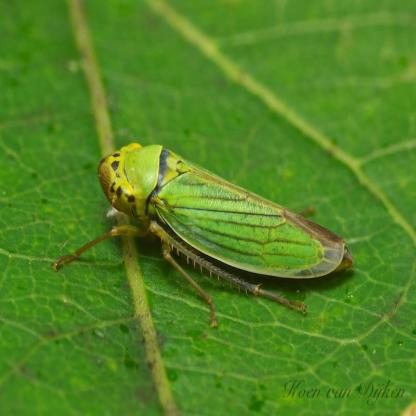Green-Leafhopper: (52, 135, 357, 330)
